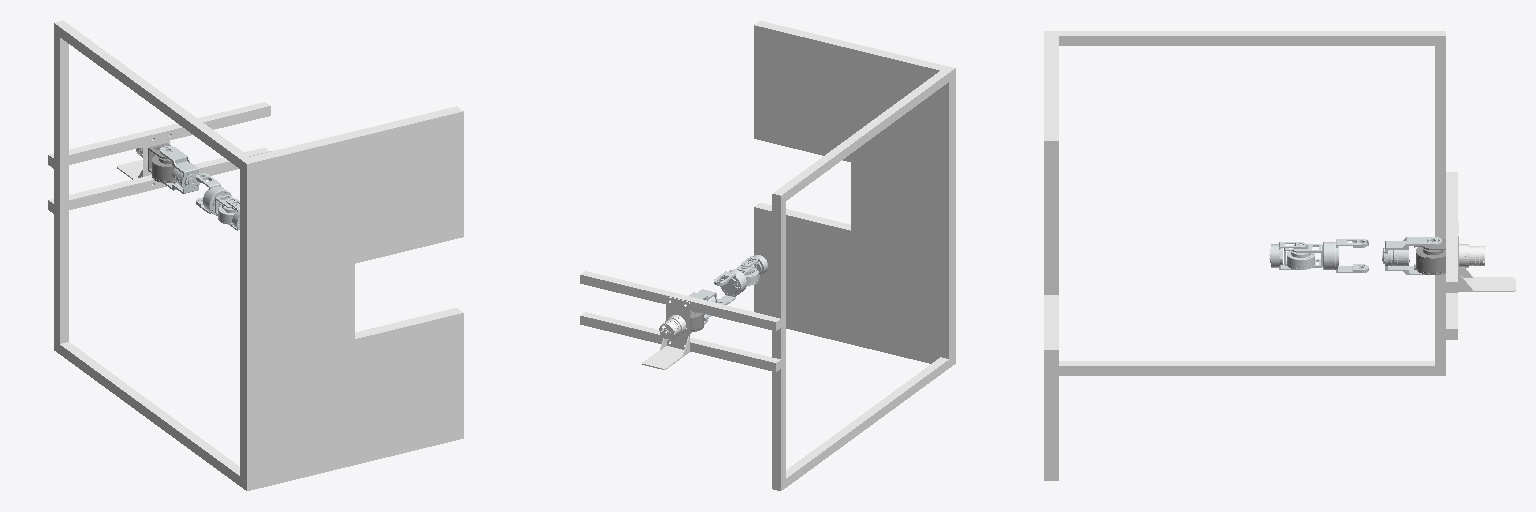
robot.urdf — add_gas_robot_description3:
<?xml version="1.0" encoding="utf-8"?>
<!-- This URDF was automatically created by SolidWorks to URDF Exporter! Originally created by [author] ([email redacted]) 
     Commit Version: 1.5.1-0-g916b5db  Build Version: 1.5.7152.31018
     For more information, please see http://wiki.ros.org/sw_urdf_exporter -->
<robot
  name="add_gas_robot_description3">
  <link
    name="base_link">
    <inertial>
      <origin
        xyz="-0.066598 0.22833 -0.0016808"
        rpy="0 0 0" />
      <mass
        value="63.094" />
      <inertia
        ixx="20.408"
        ixy="1.7499"
        ixz="1.8514E-07"
        iyy="14.719"
        iyz="0.0042417"
        izz="14.797" />
    </inertial>
    <visual>
      <origin
        xyz="0 0 0"
        rpy="0 0 0" />
      <geometry>
        <mesh
          filename="package://add_gas_robot_description3/meshes/base_link.STL" />
      </geometry>
      <material
        name="">
        <color
          rgba="1 1 1 1" />
      </material>
    </visual>
    <collision>
      <origin
        xyz="0 0 0"
        rpy="0 0 0" />
      <geometry>
        <mesh
          filename="package://add_gas_robot_description3/meshes/base_link.STL" />
      </geometry>
    </collision>
  </link>
  <link
    name="link1">
    <inertial>
      <origin
        xyz="-0.00012557 0.0053091 -0.071768"
        rpy="0 0 0" />
      <mass
        value="0.64188" />
      <inertia
        ixx="0.0017662"
        ixy="4.5469E-07"
        ixz="-3.0475E-06"
        iyy="0.0016005"
        iyz="2.6064E-06"
        izz="0.0010995" />
    </inertial>
    <visual>
      <origin
        xyz="0 0 0"
        rpy="0 0 0" />
      <geometry>
        <mesh
          filename="package://add_gas_robot_description3/meshes/link1.STL" />
      </geometry>
      <material
        name="">
        <color
          rgba="0.6902 0.6902 0.6902 1" />
      </material>
    </visual>
    <collision>
      <origin
        xyz="0 0 0"
        rpy="0 0 0" />
      <geometry>
        <mesh
          filename="package://add_gas_robot_description3/meshes/link1.STL" />
      </geometry>
    </collision>
  </link>
  <joint
    name="joint1"
    type="revolute">
    <origin
      xyz="0 1.435 0"
      rpy="-1.5708 0 0" />
    <parent
      link="base_link" />
    <child
      link="link1" />
    <axis
      xyz="0 0 1" />
    <limit
      lower="-2.094"
      upper="2.094"
      effort="0"
      velocity="0" />
  </joint>
  <link
    name="link2">
    <inertial>
      <origin
        xyz="3.04726684921199E-05 0.0975412761939825 0.000205433232082752"
        rpy="0 0 0" />
      <mass
        value="0.861640137146943" />
      <inertia
        ixx="0.00327595177018871"
        ixy="1.05956531650912E-06"
        ixz="-3.0718958172152E-07"
        iyy="0.00167786700906462"
        iyz="1.64601516973339E-05"
        izz="0.00219460887455938" />
    </inertial>
    <visual>
      <origin
        xyz="0 0 0"
        rpy="0 0 0" />
      <geometry>
        <mesh
          filename="package://add_gas_robot_description3/meshes/link2.STL" />
      </geometry>
      <material
        name="">
        <color
          rgba="0.898039215686275 0.92156862745098 0.929411764705882 1" />
      </material>
    </visual>
    <collision>
      <origin
        xyz="0 0 0"
        rpy="0 0 0" />
      <geometry>
        <mesh
          filename="package://add_gas_robot_description3/meshes/link2.STL" />
      </geometry>
    </collision>
  </link>
  <joint
    name="joint2"
    type="revolute">
    <origin
      xyz="0 0 -0.09"
      rpy="-1.5708 0 0" />
    <parent
      link="link1" />
    <child
      link="link2" />
    <axis
      xyz="0 0 1" />
    <limit
      lower="-1.5708"
      upper="1.5708"
      effort="0"
      velocity="0" />
  </joint>
  <link
    name="link3">
    <inertial>
      <origin
        xyz="0.0002201 -0.0066866 0.23442"
        rpy="0 0 0" />
      <mass
        value="0.37756" />
      <inertia
        ixx="0.00074353"
        ixy="6.7209E-07"
        ixz="-1.0397E-06"
        iyy="0.00067747"
        iyz="4.1779E-06"
        izz="0.00041213" />
    </inertial>
    <visual>
      <origin
        xyz="0 0 0"
        rpy="0 0 0" />
      <geometry>
        <mesh
          filename="package://add_gas_robot_description3/meshes/link3.STL" />
      </geometry>
      <material
        name="">
        <color
          rgba="0.89804 0.92157 0.92941 1" />
      </material>
    </visual>
    <collision>
      <origin
        xyz="0 0 0"
        rpy="0 0 0" />
      <geometry>
        <mesh
          filename="package://add_gas_robot_description3/meshes/link3.STL" />
      </geometry>
    </collision>
  </link>
  <joint
    name="joint3"
    type="revolute">
    <origin
      xyz="0 0 0"
      rpy="-1.5708 0 0" />
    <parent
      link="link2" />
    <child
      link="link3" />
    <axis
      xyz="0 0 1" />
    <limit
      lower="-2.094"
      upper="2.094"
      effort="0"
      velocity="0" />
  </joint>
  <link
    name="link4">
    <inertial>
      <origin
        xyz="-0.00021687 0.060002 0.0035112"
        rpy="0 0 0" />
      <mass
        value="0.36887" />
      <inertia
        ixx="0.0010416"
        ixy="6.4702E-07"
        ixz="1.3187E-06"
        iyy="0.00080396"
        iyz="2.4281E-05"
        izz="0.00055378" />
    </inertial>
    <visual>
      <origin
        xyz="0 0 0"
        rpy="0 0 0" />
      <geometry>
        <mesh
          filename="package://add_gas_robot_description3/meshes/link4.STL" />
      </geometry>
      <material
        name="">
        <color
          rgba="0.89804 0.91765 0.92941 1" />
      </material>
    </visual>
    <collision>
      <origin
        xyz="0 0 0"
        rpy="0 0 0" />
      <geometry>
        <mesh
          filename="package://add_gas_robot_description3/meshes/link4.STL" />
      </geometry>
    </collision>
  </link>
  <joint
    name="joint4"
    type="revolute">
    <origin
      xyz="0 0 0.247"
      rpy="1.5708 0 0" />
    <parent
      link="link3" />
    <child
      link="link4" />
    <axis
      xyz="0 0 1" />
    <limit
      lower="-1.5708"
      upper="1.5708"
      effort="0"
      velocity="0" />
  </joint>
  <link
    name="link5">
    <inertial>
      <origin
        xyz="-3.7954E-05 -0.0040059 0.20019"
        rpy="0 0 0" />
      <mass
        value="0.3279" />
      <inertia
        ixx="0.00059271"
        ixy="-4.4959E-07"
        ixz="-8.4267E-07"
        iyy="0.00061057"
        iyz="9.2308E-06"
        izz="0.00027776" />
    </inertial>
    <visual>
      <origin
        xyz="0 0 0"
        rpy="0 0 0" />
      <geometry>
        <mesh
          filename="package://add_gas_robot_description3/meshes/link5.STL" />
      </geometry>
      <material
        name="">
        <color
          rgba="0.89804 0.92157 0.92941 1" />
      </material>
    </visual>
    <collision>
      <origin
        xyz="0 0 0"
        rpy="0 0 0" />
      <geometry>
        <mesh
          filename="package://add_gas_robot_description3/meshes/link5.STL" />
      </geometry>
    </collision>
  </link>
  <joint
    name="joint5"
    type="revolute">
    <origin
      xyz="0 0 0"
      rpy="-1.5708 0 0" />
    <parent
      link="link4" />
    <child
      link="link5" />
    <axis
      xyz="0 0 1" />
    <limit
      lower="-2.094"
      upper="2.094"
      effort="0"
      velocity="0" />
  </joint>
  <link
    name="link6">
    <inertial>
      <origin
        xyz="-3.4285E-06 0.055699 0.003099"
        rpy="0 0 0" />
      <mass
        value="0.15932" />
      <inertia
        ixx="0.00027644"
        ixy="2.2114E-07"
        ixz="-1.2983E-07"
        iyy="0.00022849"
        iyz="5.9163E-07"
        izz="0.00015048" />
    </inertial>
    <visual>
      <origin
        xyz="0 0 0"
        rpy="0 0 0" />
      <geometry>
        <mesh
          filename="package://add_gas_robot_description3/meshes/link6.STL" />
      </geometry>
      <material
        name="">
        <color
          rgba="0.89804 0.91765 0.92941 1" />
      </material>
    </visual>
    <collision>
      <origin
        xyz="0 0 0"
        rpy="0 0 0" />
      <geometry>
        <mesh
          filename="package://add_gas_robot_description3/meshes/link6.STL" />
      </geometry>
    </collision>
  </link>
  <joint
    name="joint6"
    type="revolute">
    <origin
      xyz="0 0 0.2105"
      rpy="1.5708 0 0" />
    <parent
      link="link5" />
    <child
      link="link6" />
    <axis
      xyz="0 0 1" />
    <limit
      lower="-1.5708"
      upper="1.5708"
      effort="0"
      velocity="0" />
  </joint>
  <link
    name="link7">
    <inertial>
      <origin
        xyz="1.3707E-17 -2.0406E-17 0.15901"
        rpy="0 0 0" />
      <mass
        value="0.21828" />
      <inertia
        ixx="0.00023315"
        ixy="2.9112E-21"
        ixz="1.387E-20"
        iyy="0.00023315"
        iyz="-6.6663E-21"
        izz="8.9928E-05" />
    </inertial>
    <visual>
      <origin
        xyz="0 0 0"
        rpy="0 0 0" />
      <geometry>
        <mesh
          filename="package://add_gas_robot_description3/meshes/link7.STL" />
      </geometry>
      <material
        name="">
        <color
          rgba="1 1 1 1" />
      </material>
    </visual>
    <collision>
      <origin
        xyz="0 0 0"
        rpy="0 0 0" />
      <geometry>
        <mesh
          filename="package://add_gas_robot_description3/meshes/link7.STL" />
      </geometry>
    </collision>
  </link>
  <joint
    name="joint7"
    type="revolute">
    <origin
      xyz="0 0 0"
      rpy="-1.5708 0 0" />
    <parent
      link="link6" />
    <child
      link="link7" />
    <axis
      xyz="0 0 1" />
    <limit
      lower="-3.1416"
      upper="3.1416"
      effort="0"
      velocity="0" />
  </joint>
</robot>

--- Facts derived from the render (not from the file) ---
Views: 3 orthographic renders of the robot side by side, from view 1: azimuth 30°, elevation 25°; view 2: azimuth 150°, elevation 25°; view 3: azimuth 270°, elevation 25°.
Robot: add_gas_robot_description3 — 8 links, 7 joints (7 revolute); root link base_link; default pose: all joints at 0.
Links seen in each view (by area): view 1: base_link, link2, link1, link4; view 2: base_link, link4; view 3: base_link, link2, link4, link1, link5.
Boxes of the visible links, bbox=[...] form: base_link: bbox=[48, 20, 463, 490]; link2: bbox=[160, 146, 199, 193]; link1: bbox=[148, 143, 175, 183]; link4: bbox=[196, 173, 231, 215]; base_link: bbox=[580, 21, 955, 490]; link4: bbox=[714, 270, 746, 304]; base_link: bbox=[1044, 31, 1515, 480]; link2: bbox=[1382, 237, 1441, 274]; link4: bbox=[1323, 239, 1368, 272]; link1: bbox=[1414, 239, 1445, 274]; link5: bbox=[1284, 244, 1322, 269].
Bounding box of the posed robot: 0.9 × 1.63 × 1.3 m (x, y, z).
Meshes: 8 distinct files referenced, 6 mesh visuals loaded (6 binary STL); not drawn: 2 (reference not matched to a file when rendering).